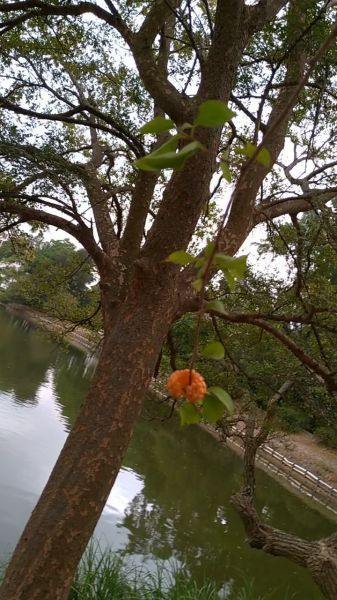eggs: (163, 363, 211, 412)
